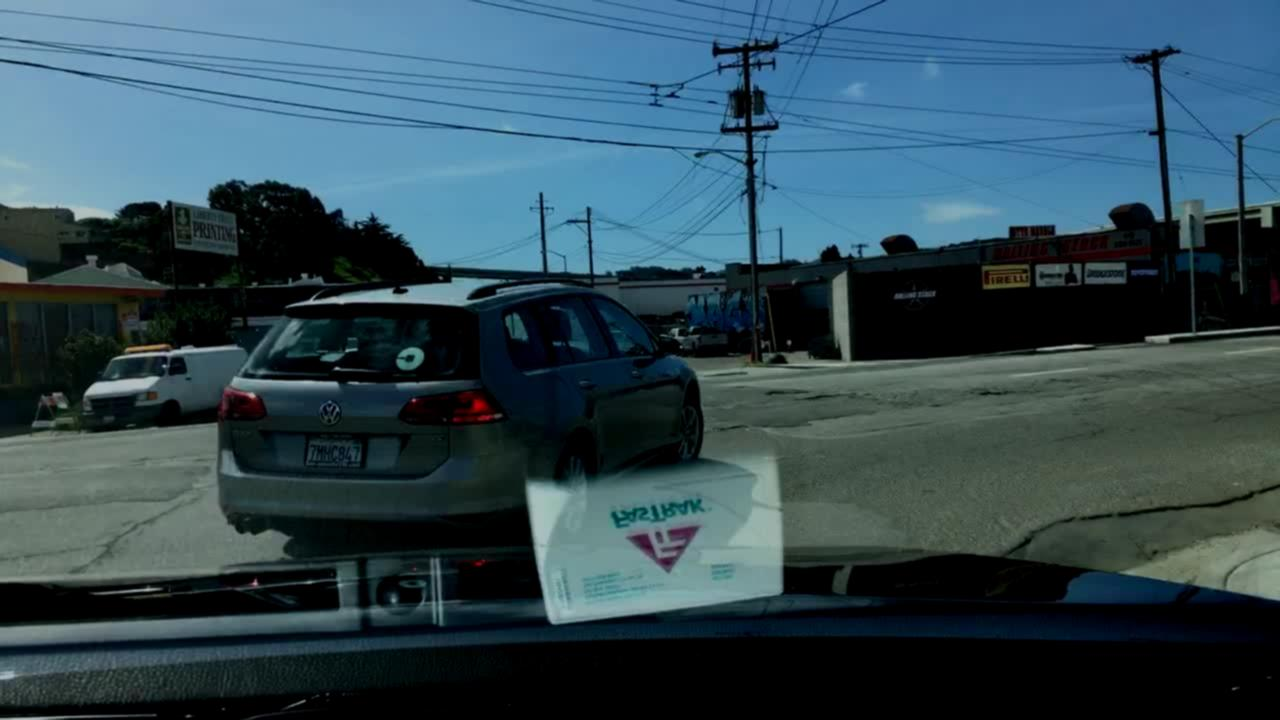Volkswagen: (312, 398, 348, 432)
